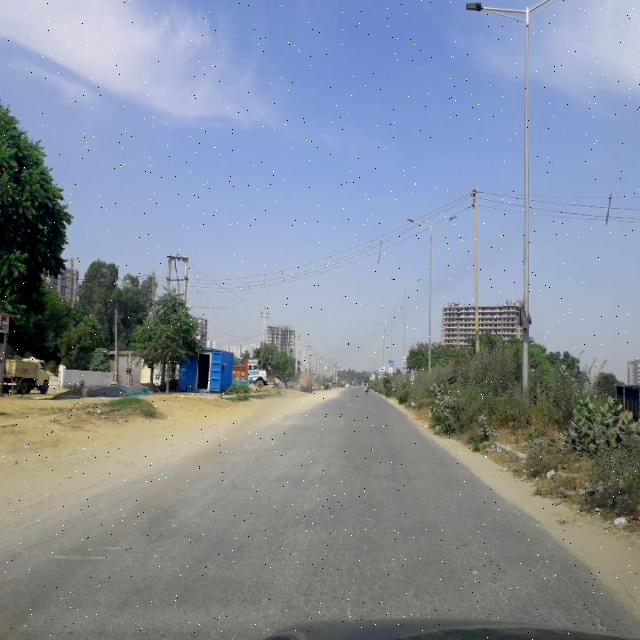D20: (241, 503, 589, 617)
